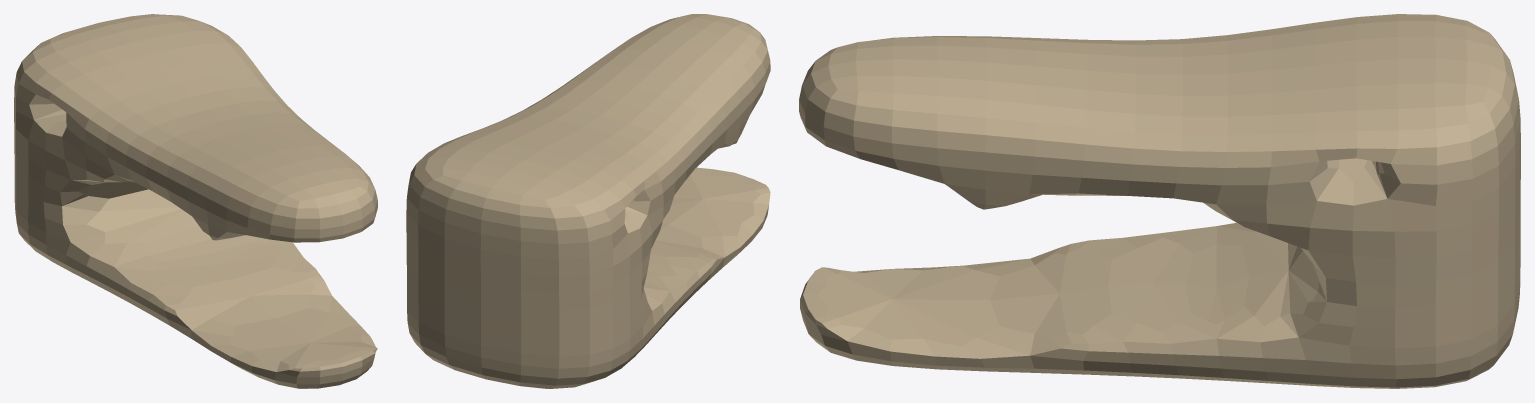
File: croc.obj
3 renders of one model, left to right at view 1: azimuth 30°, elevation 25°; view 2: azimuth 150°, elevation 25°; view 3: azimuth 270°, elevation 25°, orthographic. The views are drawn at different scales.
Parts seen in each view (by area): view 1: Cube; view 2: Cube; view 3: Cube.
Part boxes in pixels (x1,y1,x2,y2): Cube: (14, 14, 377, 388); Cube: (406, 14, 770, 388); Cube: (799, 14, 1520, 388).
Bounding box in the file's own units: 8.55 × 7.87 × 18.04.
